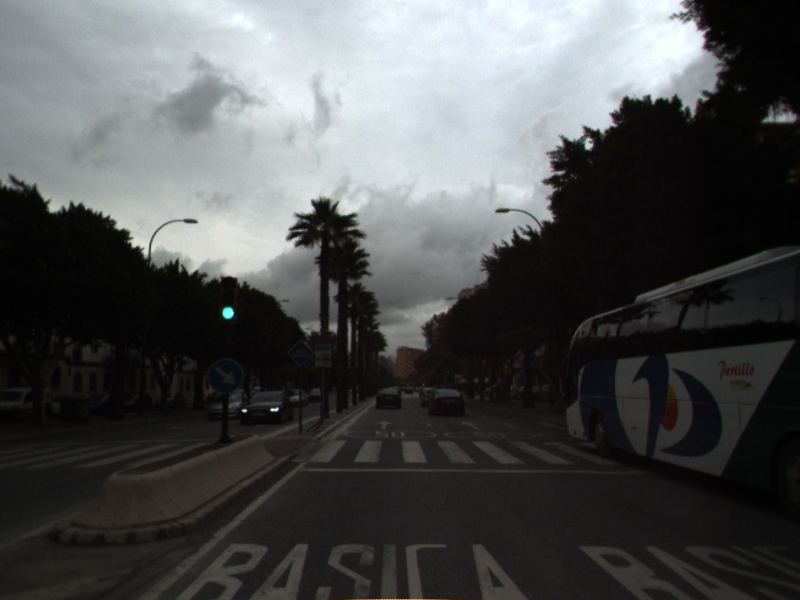STRAIGHT: (458, 418, 483, 433), (374, 418, 395, 432)
